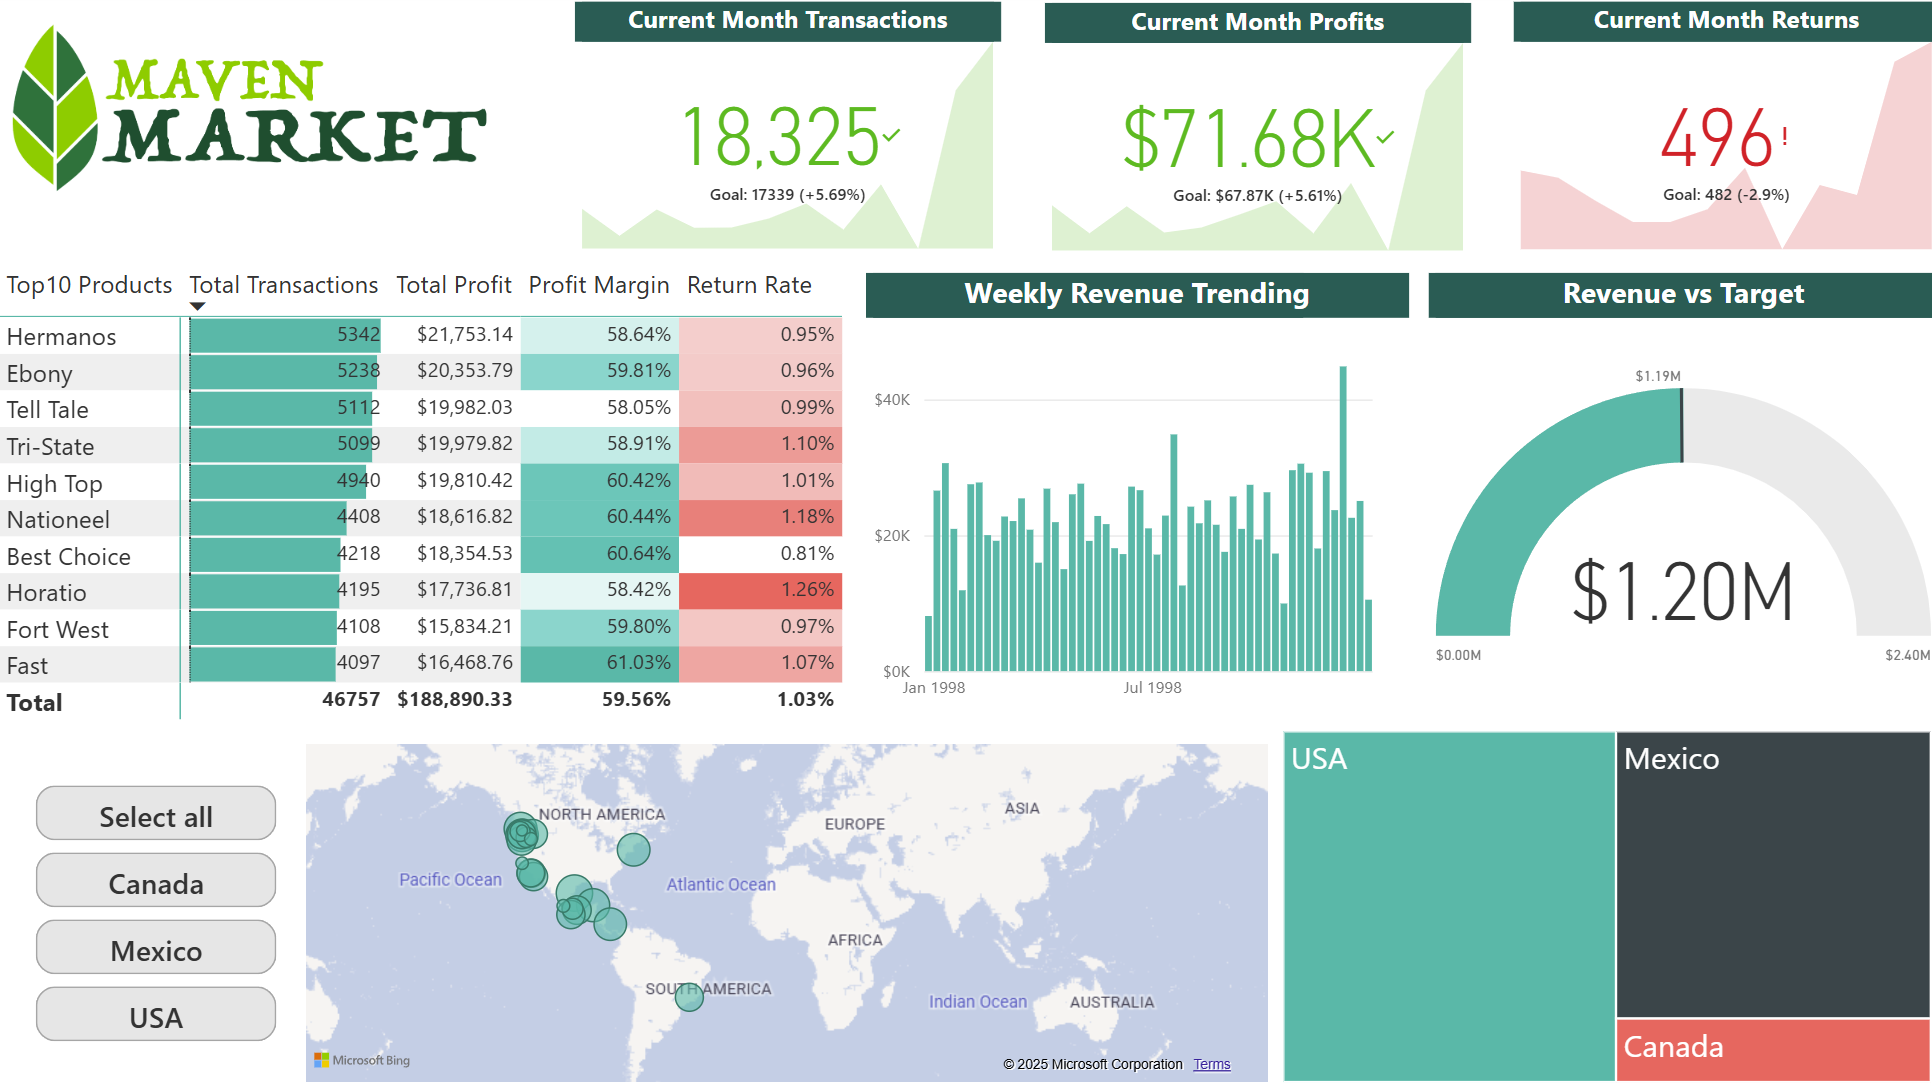

Layout of this report page (visuals, bound fields, positions):
{"tool":"powerbi","page":{"name":"Topline Performance","canvas":[1280,720],"ordinal":0},"visuals":[{"type":"pivotTable","fields":{"Rows":["Products.product_brand"],"Values":["Measure Table(DAX).Total Transactions","Measure Table(DAX).Total Profit","Measure Table(DAX).Profit Margin","Measure Table(DAX).Return Rate"]},"box":[0,172.7,565.7,329.3],"z":0},{"type":"image","box":[0,0,337.4,148.5],"z":1000},{"type":"kpi","title":"Current Month Profits","fields":{"TrendLine":["Calendar.Start of Month"],"Indicator":["Measure Table(DAX).Total Profit"],"Goal":["Measure Table(DAX).Last Month Profit"]},"box":[691.9,5.5,280,168],"z":2000},{"type":"kpi","title":"Current Month Transactions","fields":{"Indicator":["Measure Table(DAX).Total Transactions"],"TrendLine":["Calendar.Start of Month"],"Goal":["Measure Table(DAX).Last Month Transactions"]},"box":[383.8,5.1,280,167.7],"z":3000},{"type":"kpi","title":"Current Month Returns","fields":{"TrendLine":["Calendar.Start of Month"],"Indicator":["Measure Table(DAX).Total Returns"],"Goal":["Measure Table(DAX).Last Month Returns"]},"box":[1000,5.1,280,168],"z":4000},{"type":"lineStackedColumnComboChart","title":"Weekly Revenue Trending","fields":{"Category":["Calendar.Start of Week.Variation.Date Hierarchy.Year"],"Y":["Measure Table(DAX).Total Revenue"]},"box":[574.7,182.8,356.6,289.9],"z":5000},{"type":"gauge","title":"Revenue vs Target","fields":{"Y":["Measure Table(DAX).Total Revenue"],"TargetValue":["Measure Table(DAX).Revenue Target"]},"box":[944.4,182.8,335.4,289.9],"z":6000},{"type":"advancedSlicerVisual","title":"Store Country","fields":{"Values":["Stores.store_country"]},"box":[24.2,494.9,168.7,218.2],"z":8000},{"type":"map","fields":{"Category":["Stores.store_city"],"Size":["Measure Table(DAX).Total Transactions"]},"box":[202,487.9,642.4,232.3],"z":9000},{"type":"treemap","fields":{"Values":["Measure Table(DAX).Total Transactions"],"Group":["Stores.store_country","Stores.store_state","Stores.store_city"]},"box":[844.4,479.8,435.4,240.4],"z":10000}]}

Visuals, with their boxes in screenshot pixels (x1, y1, x2, y2), scaled from the page's 1280x720 canvas onto the 1932x1086 screenshot:
pivotTable - Products.product_brand x Measure Table(DAX).Total Transactions: BBox(0, 260, 854, 757)
image: BBox(0, 0, 509, 224)
"Current Month Profits" kpi: BBox(1044, 8, 1467, 262)
"Current Month Transactions" kpi: BBox(579, 8, 1002, 261)
"Current Month Returns" kpi: BBox(1509, 8, 1931, 261)
"Weekly Revenue Trending" lineStackedColumnComboChart: BBox(867, 276, 1406, 713)
"Revenue vs Target" gauge: BBox(1425, 276, 1931, 713)
"Store Country" advancedSlicerVisual: BBox(37, 746, 291, 1076)
map - Stores.store_city x Measure Table(DAX).Total Transactions: BBox(305, 736, 1275, 1085)
treemap - Measure Table(DAX).Total Transactions x Stores.store_country: BBox(1275, 724, 1931, 1085)
